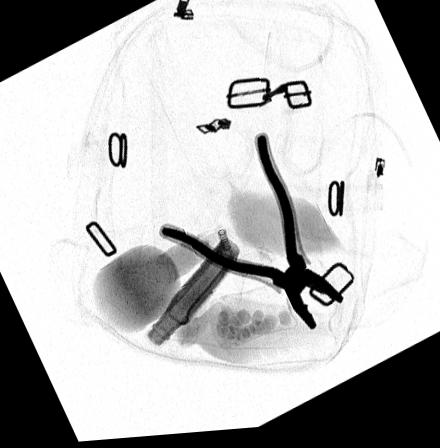Pliers: (159, 135, 345, 335)
